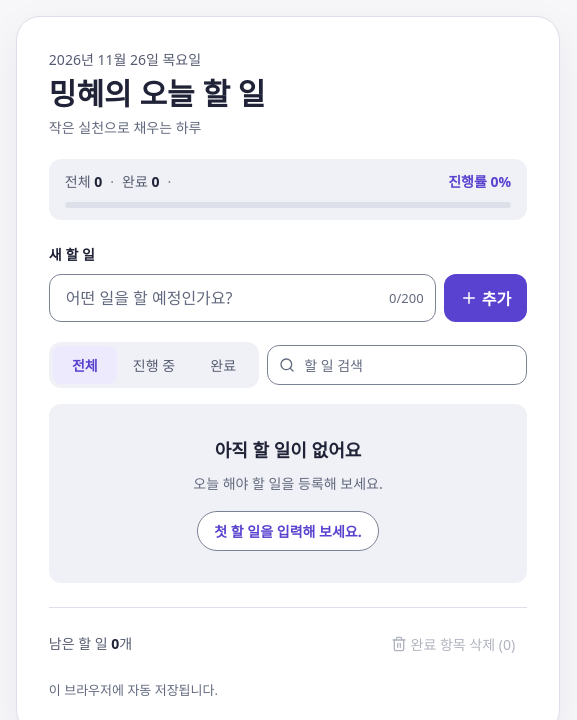
Test: App Component Integration › 한글 IME 조합 중(isComposing === true) Enter 키는 등록되지 않는다
This screenshot has width=577, height=720.
Type "한글입력" into the field with placeholder "어떤 일을 할 예정인가요?" at (242, 298), box [49,274,436,322]
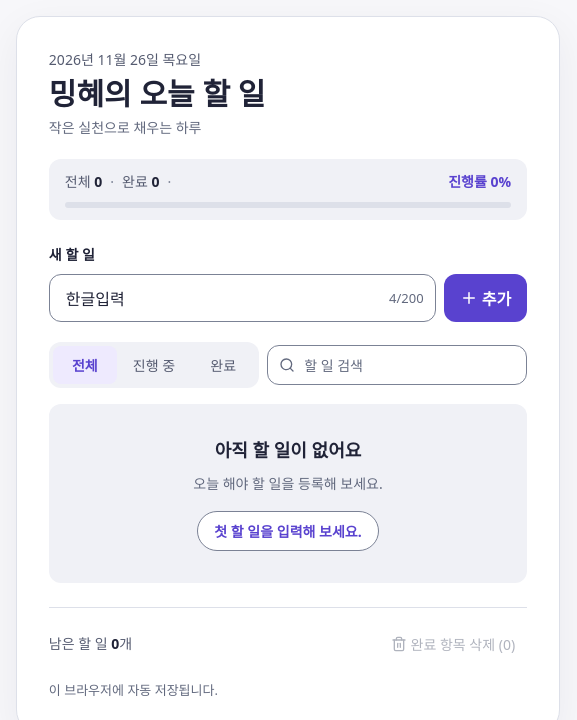
isComposing: true 상태의 Enter 이벤트 발송
Press Enter in the field with placeholder "어떤 일을 할 예정인가요?", box [49,274,436,322]
isComposing: false 상태의 Enter 이벤트 발송 시 정상 등록
Press Enter in the field with placeholder "어떤 일을 할 예정인가요?", box [49,274,436,322]
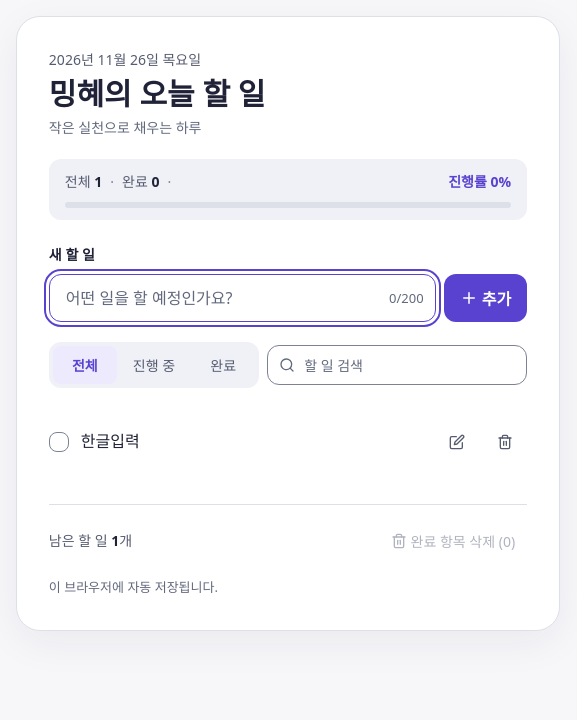
expect the text "한글입력" is shown: met, box [81,429,140,455]
expect the field with placeholder "어떤 일을 할 예정인가요?" is empty: met, box [49,274,436,322]
